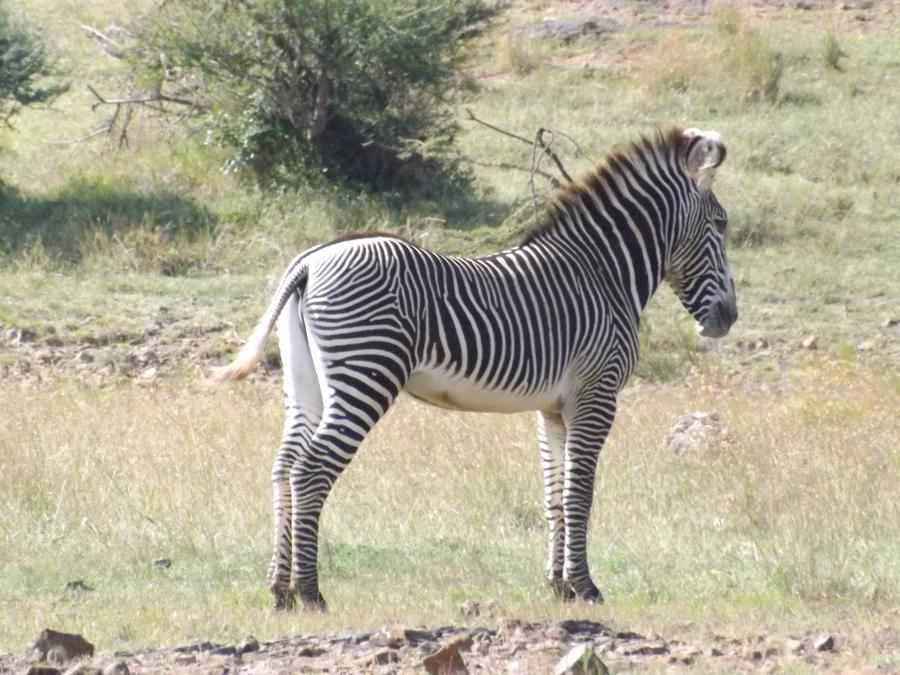zebra_grevys: (294, 221, 628, 400)
